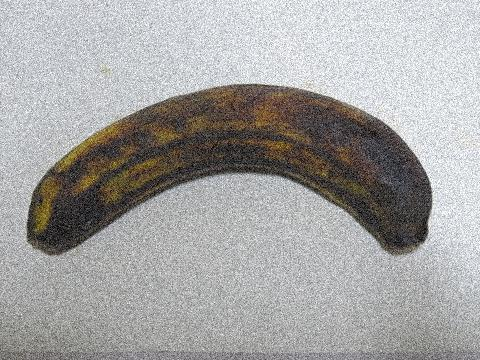overripe: (24, 80, 439, 259)
